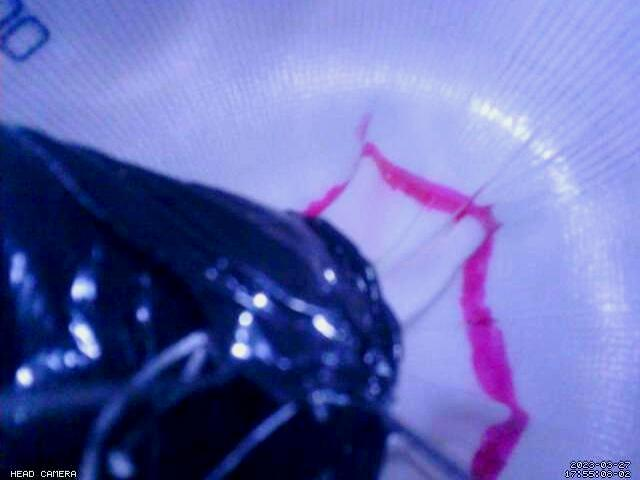red-circle: (302, 141, 531, 480)
